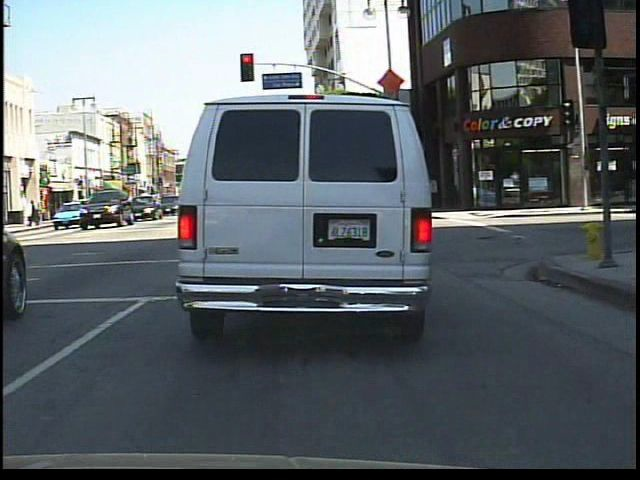person: (27, 197, 42, 229)
